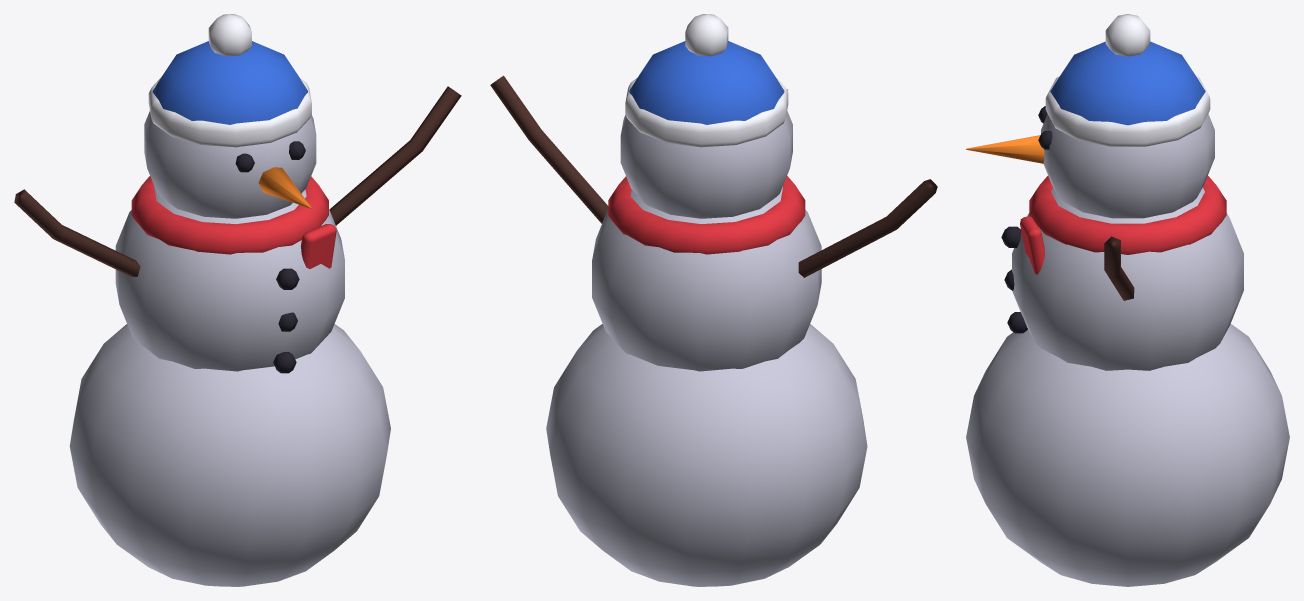
The model's file is frost_snowman.glb.
3 renders of one model, left to right at view 1: azimuth 30°, elevation 25°; view 2: azimuth 150°, elevation 25°; view 3: azimuth 270°, elevation 25°, orthographic.
Visible parts, largest first — view 1: Snowman; view 2: Snowman; view 3: Snowman.
Boxes of the visible parts, left/top/right/bottom form: Snowman: left=14, top=14, right=461, bottom=586; Snowman: left=490, top=14, right=937, bottom=586; Snowman: left=966, top=14, right=1289, bottom=586.
Size of the model in its own units: 1.74 by 2.09 by 1.1.
